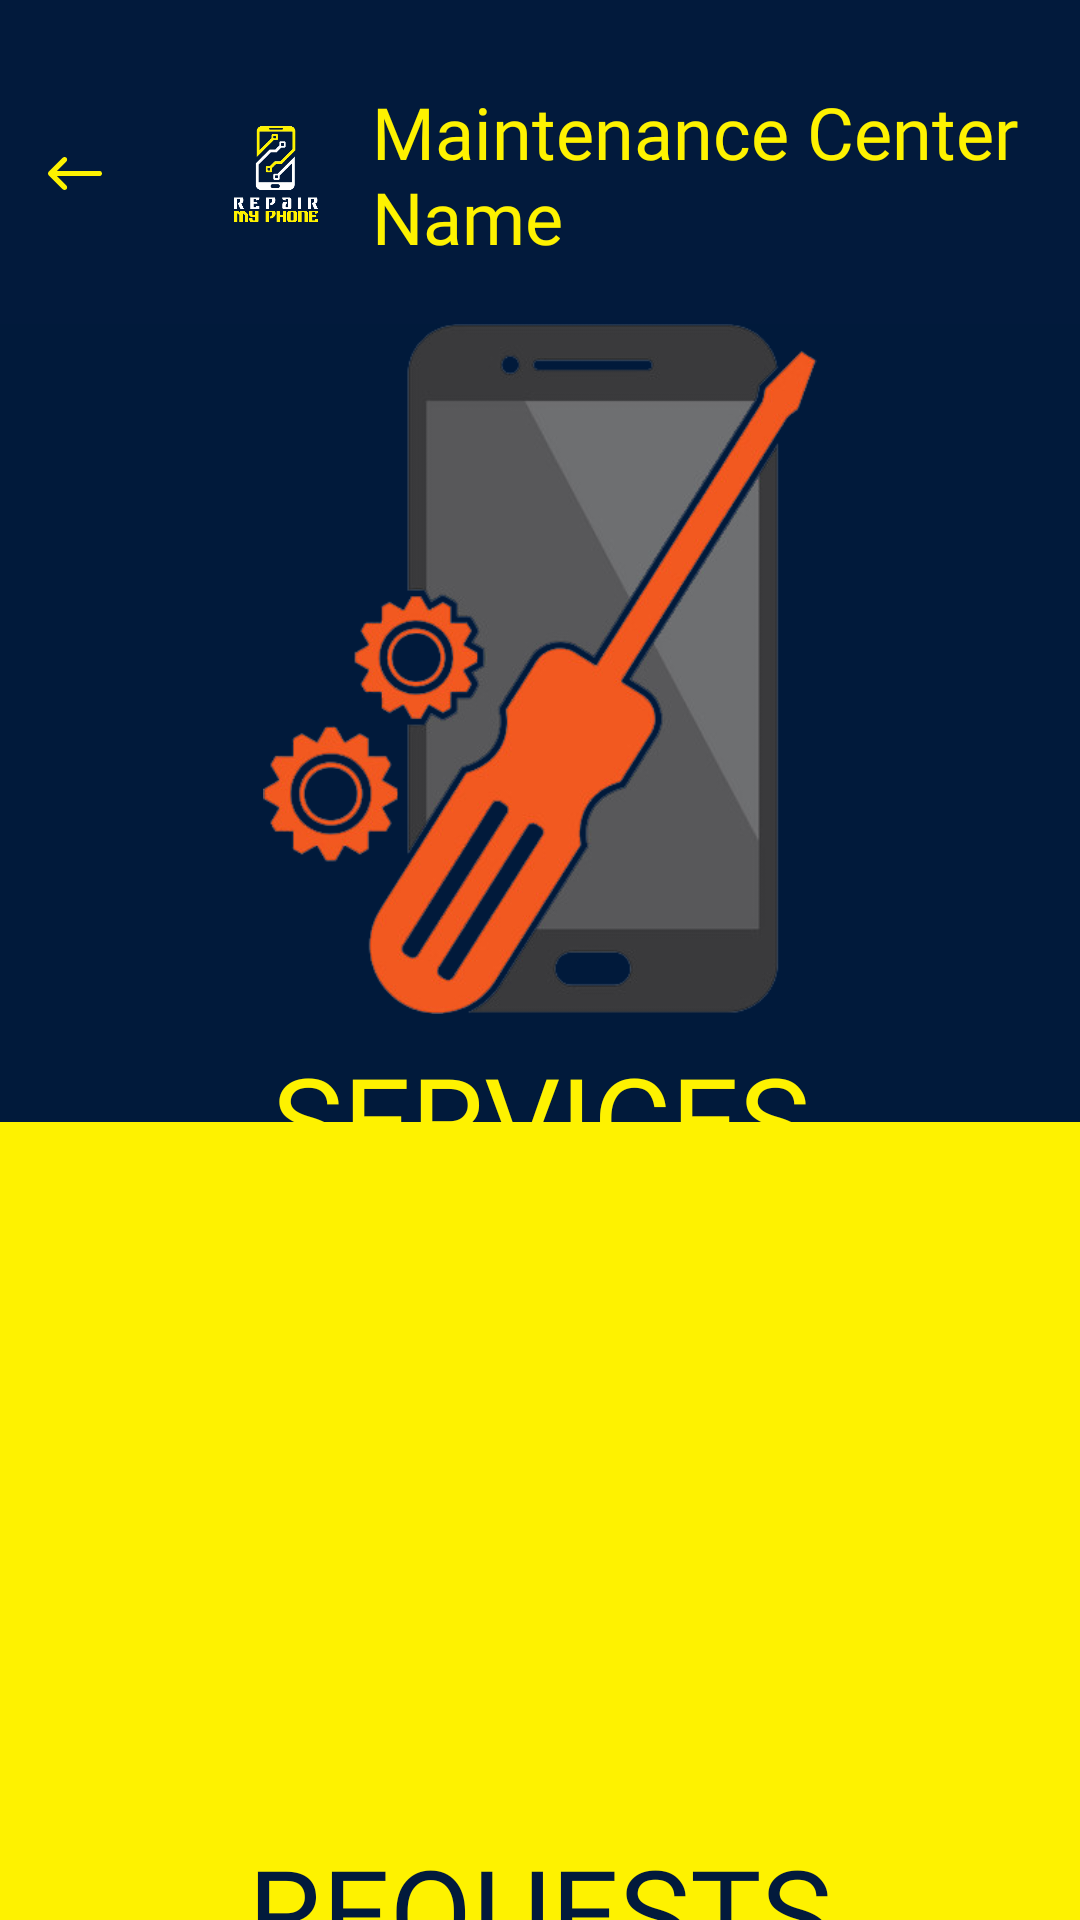

Where icons sit on this 1080px×1920px app screen, as (x1, y1, x2, y2):
back: (48, 157, 102, 190)
